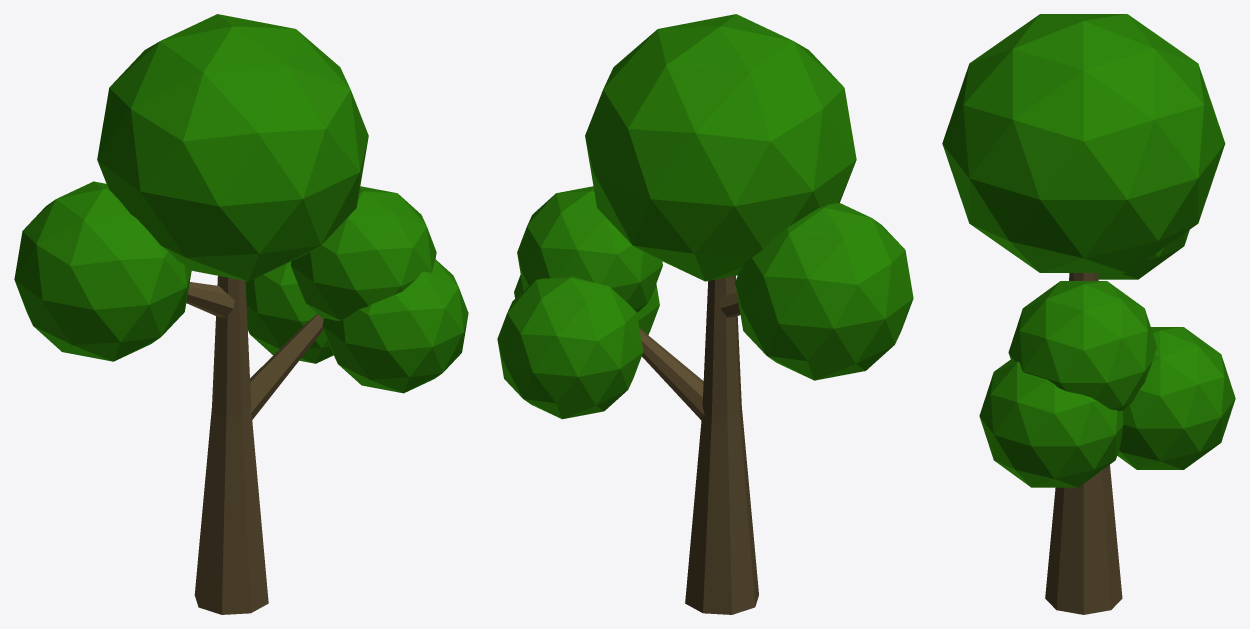
The model's file is Tree.glb.
3 renders of one model, left to right at view 1: azimuth 30°, elevation 25°; view 2: azimuth 150°, elevation 25°; view 3: azimuth 270°, elevation 25°, orthographic.
Parts seen in each view (by area): view 1: Tree; view 2: Tree; view 3: Tree.
Part boxes in pixels (left/top/right/bottom): Tree: left=14, top=14, right=468, bottom=614; Tree: left=497, top=14, right=913, bottom=614; Tree: left=942, top=14, right=1235, bottom=614.
Size of the model in its own units: 4.67 by 6.37 by 2.93.
